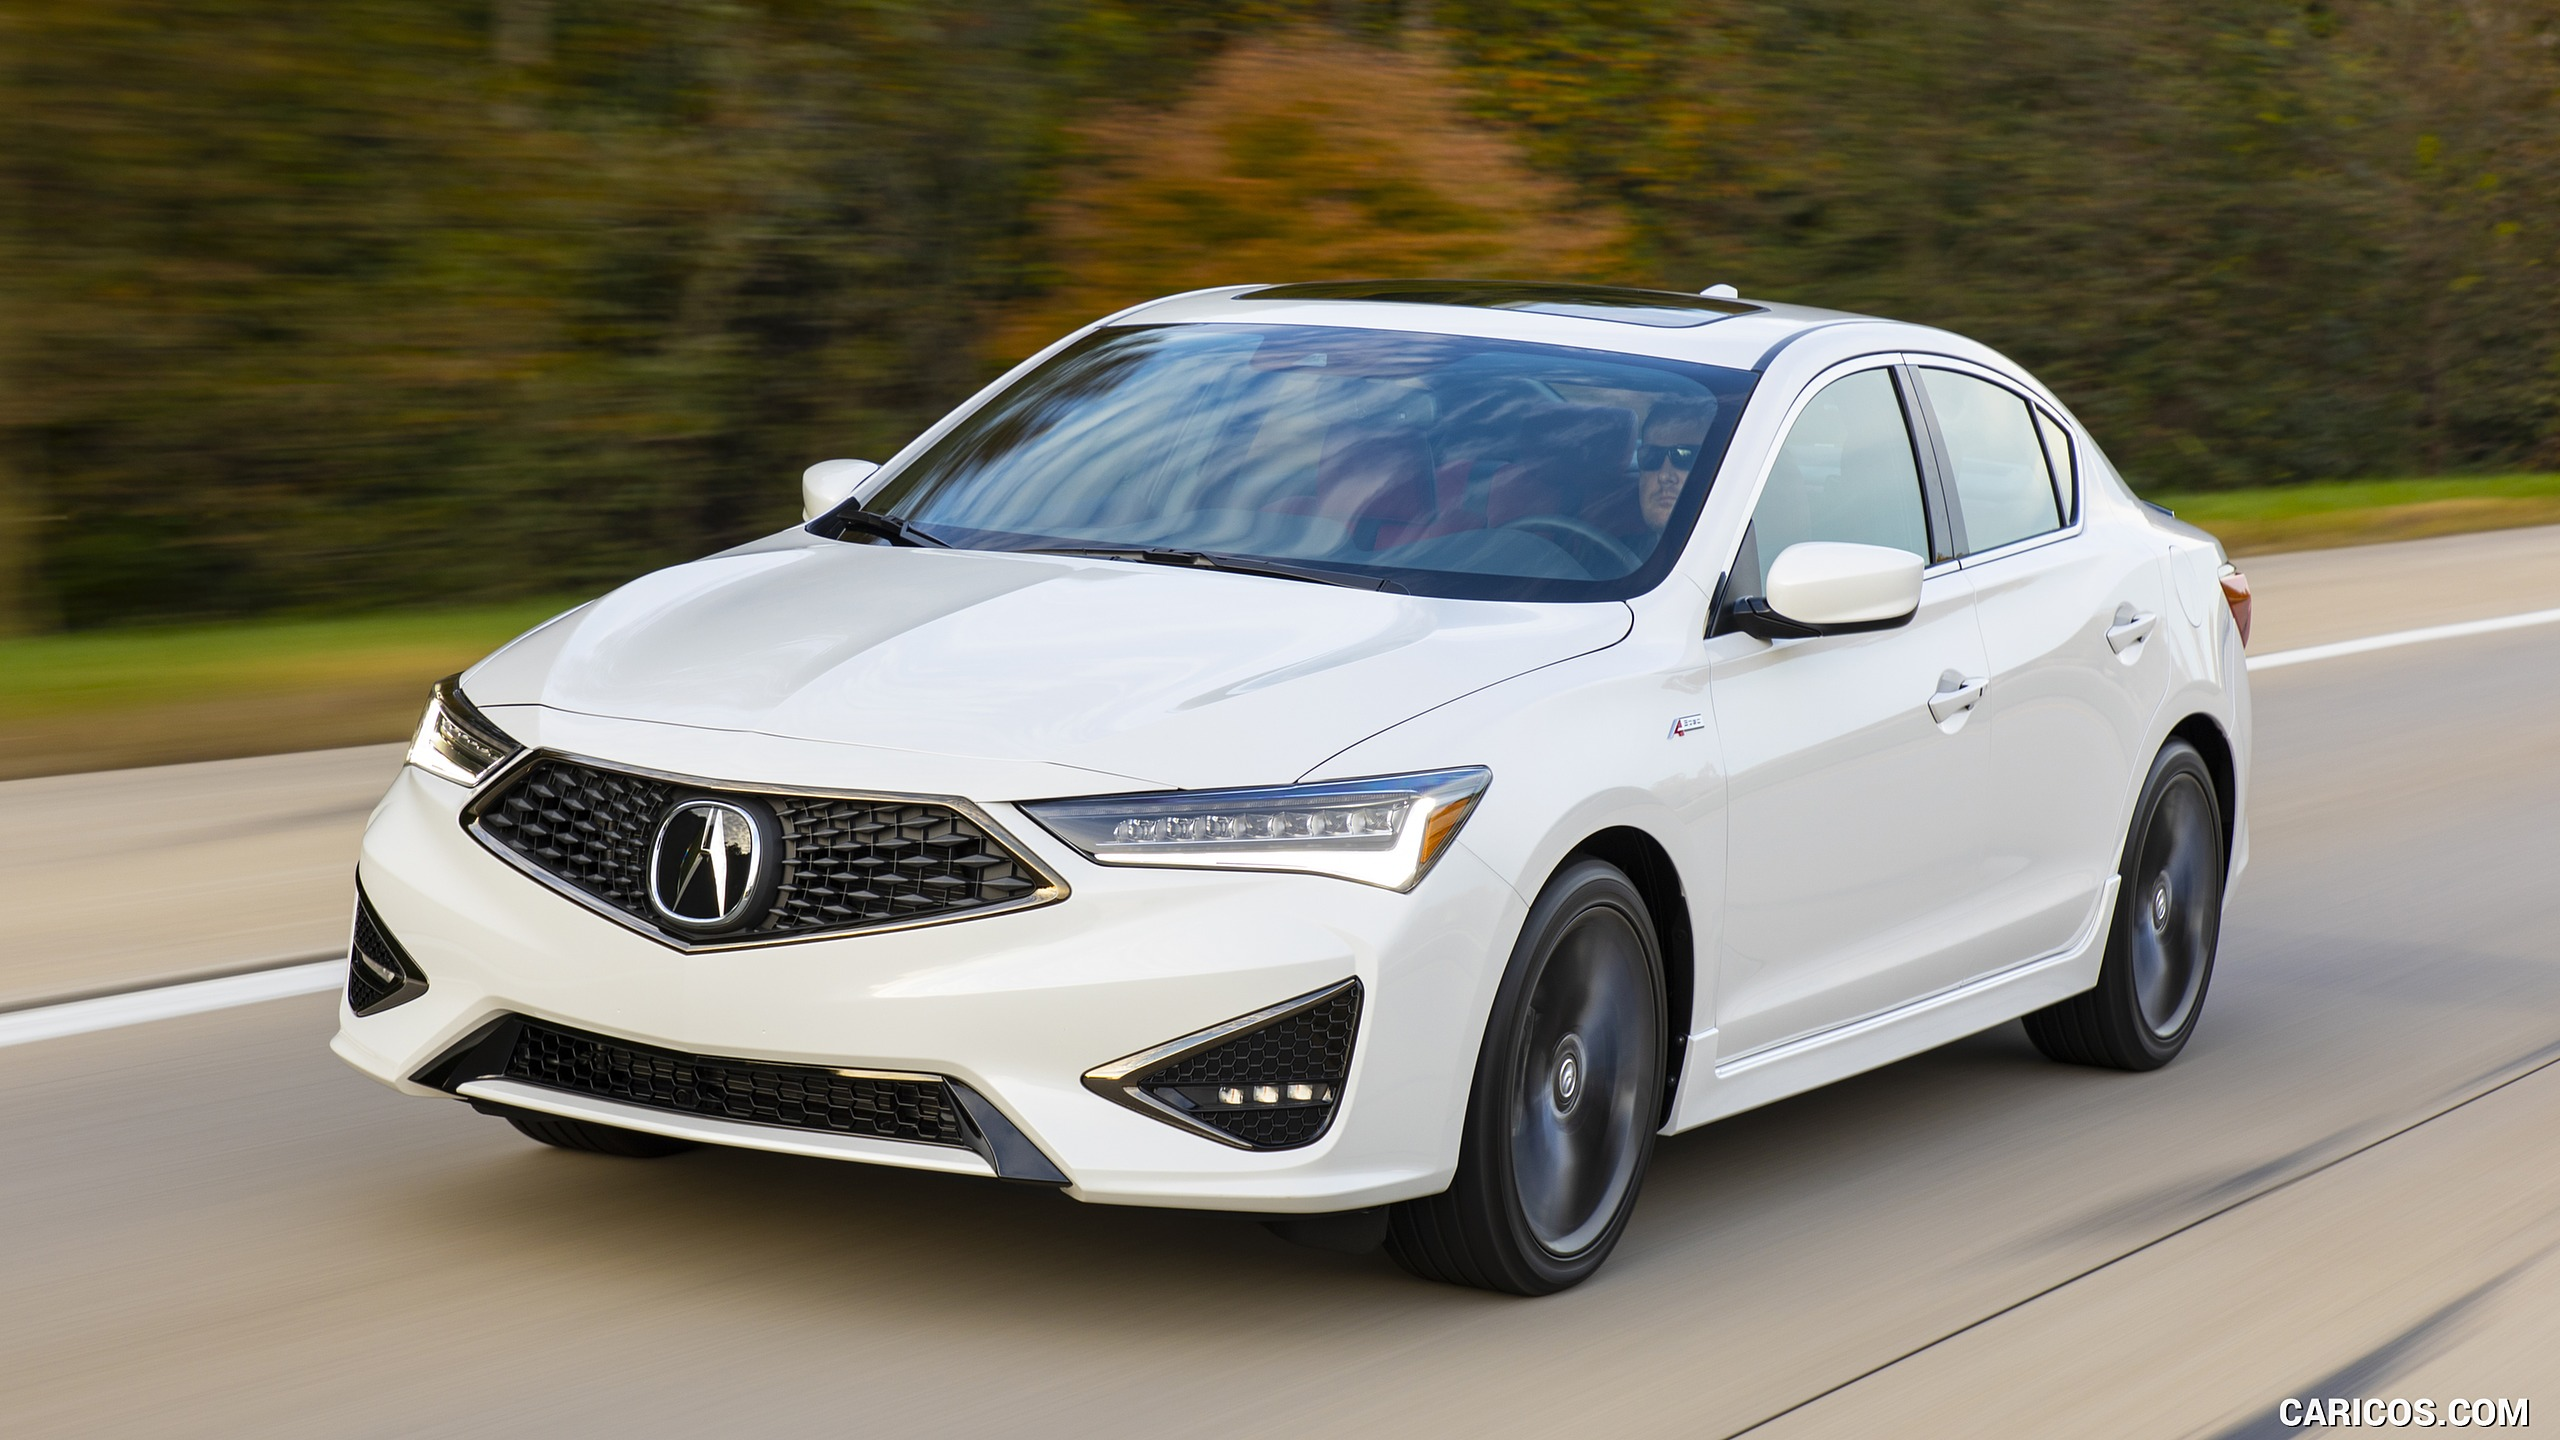Fog Lamp & Scope: (1166, 1016, 1363, 1139)
Front: (316, 601, 1586, 1208)
Front Bumper: (315, 958, 1475, 1196)
Grill: (505, 768, 1015, 930)
Headlight: (1065, 774, 1496, 876)
